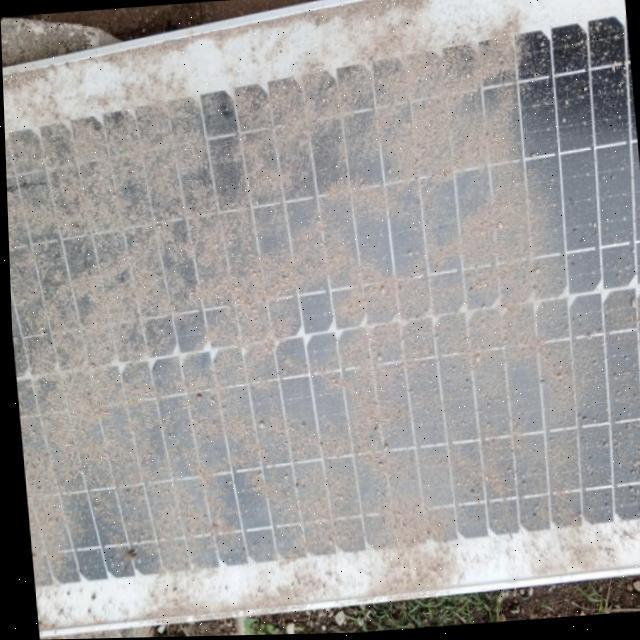Surface Contaminant: (2, 20, 578, 640)
